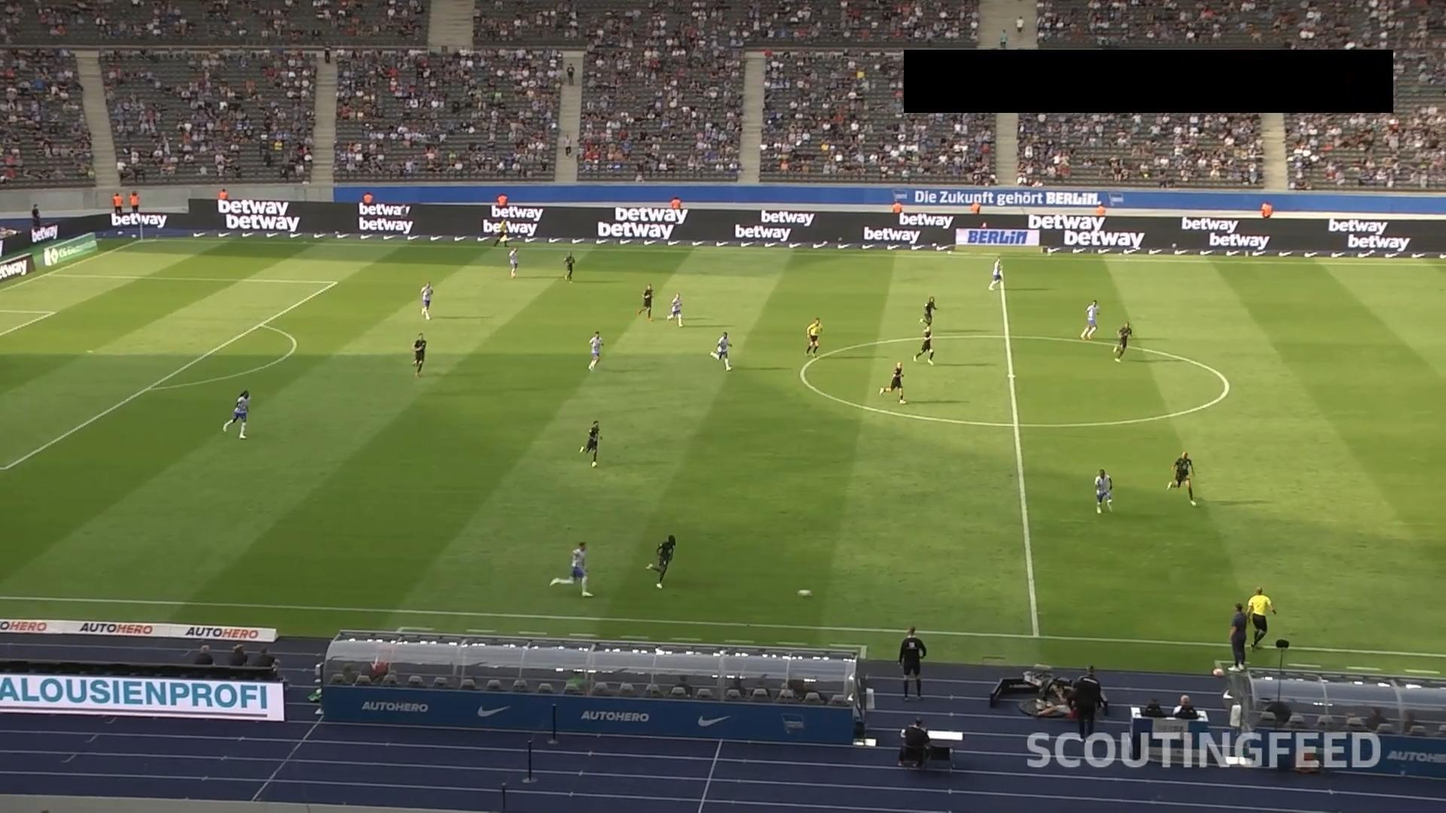ball: (798, 588, 810, 600)
player: (551, 541, 593, 596), (1166, 452, 1196, 506), (647, 536, 676, 589), (223, 391, 249, 441), (577, 421, 602, 468), (880, 362, 905, 405), (709, 331, 732, 372), (1094, 470, 1114, 517), (1112, 321, 1132, 363), (913, 326, 934, 366), (1080, 300, 1099, 341), (410, 332, 427, 376), (587, 332, 604, 370), (919, 297, 938, 330), (638, 285, 655, 320), (667, 293, 684, 327), (419, 282, 434, 320), (987, 257, 1002, 291), (563, 251, 576, 283), (509, 248, 519, 280)
referee: (1246, 585, 1278, 651), (804, 318, 823, 357), (491, 218, 513, 248)
